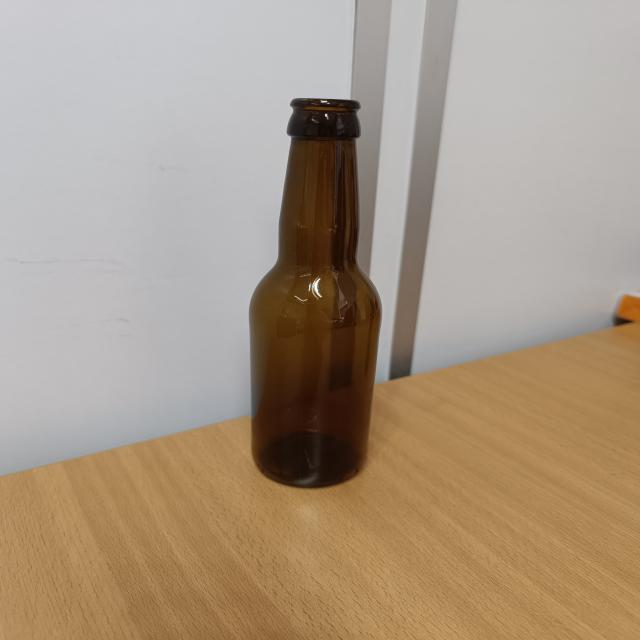Bottle: (251, 96, 379, 488)
